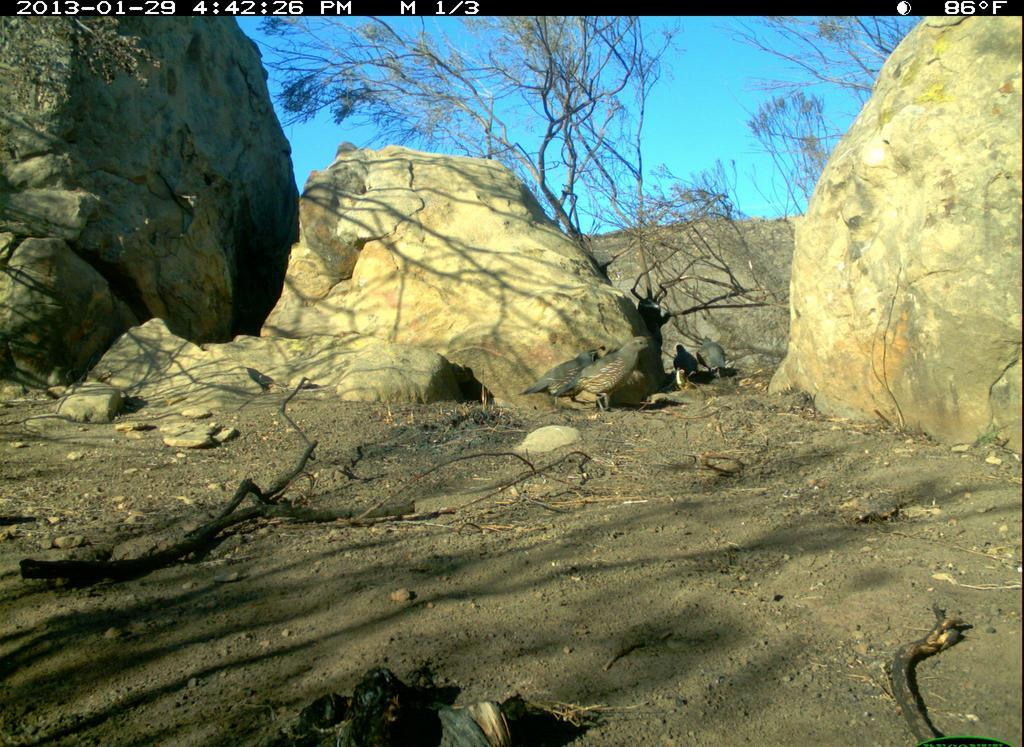bird: (548, 327, 664, 418), (519, 342, 603, 414), (698, 327, 737, 383), (672, 336, 703, 392)
